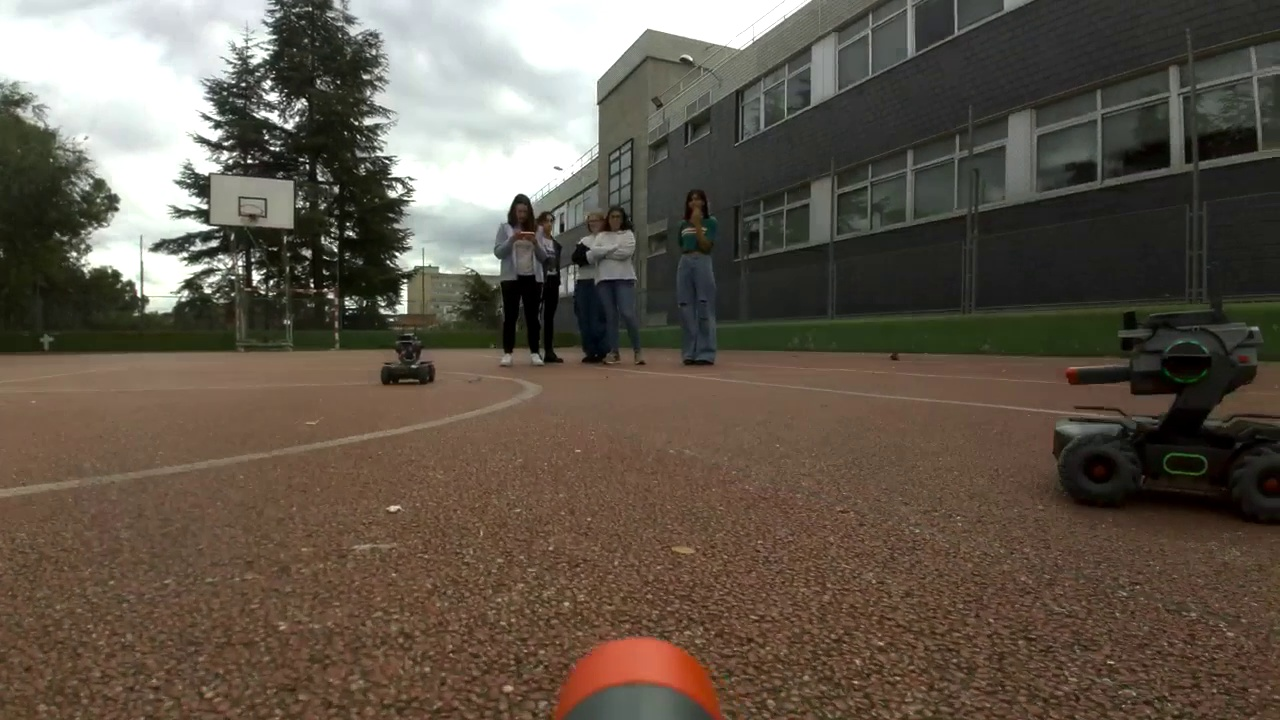robot: (1057, 311, 1280, 512), (381, 331, 435, 384)
